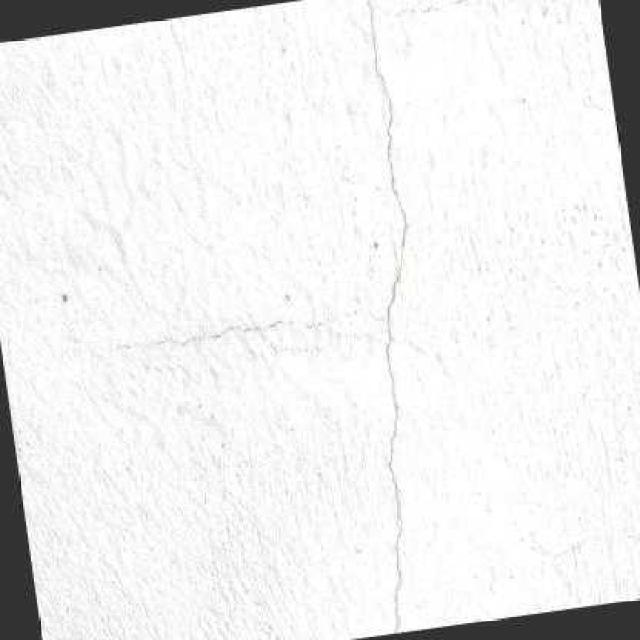D00: (367, 0, 406, 633)
